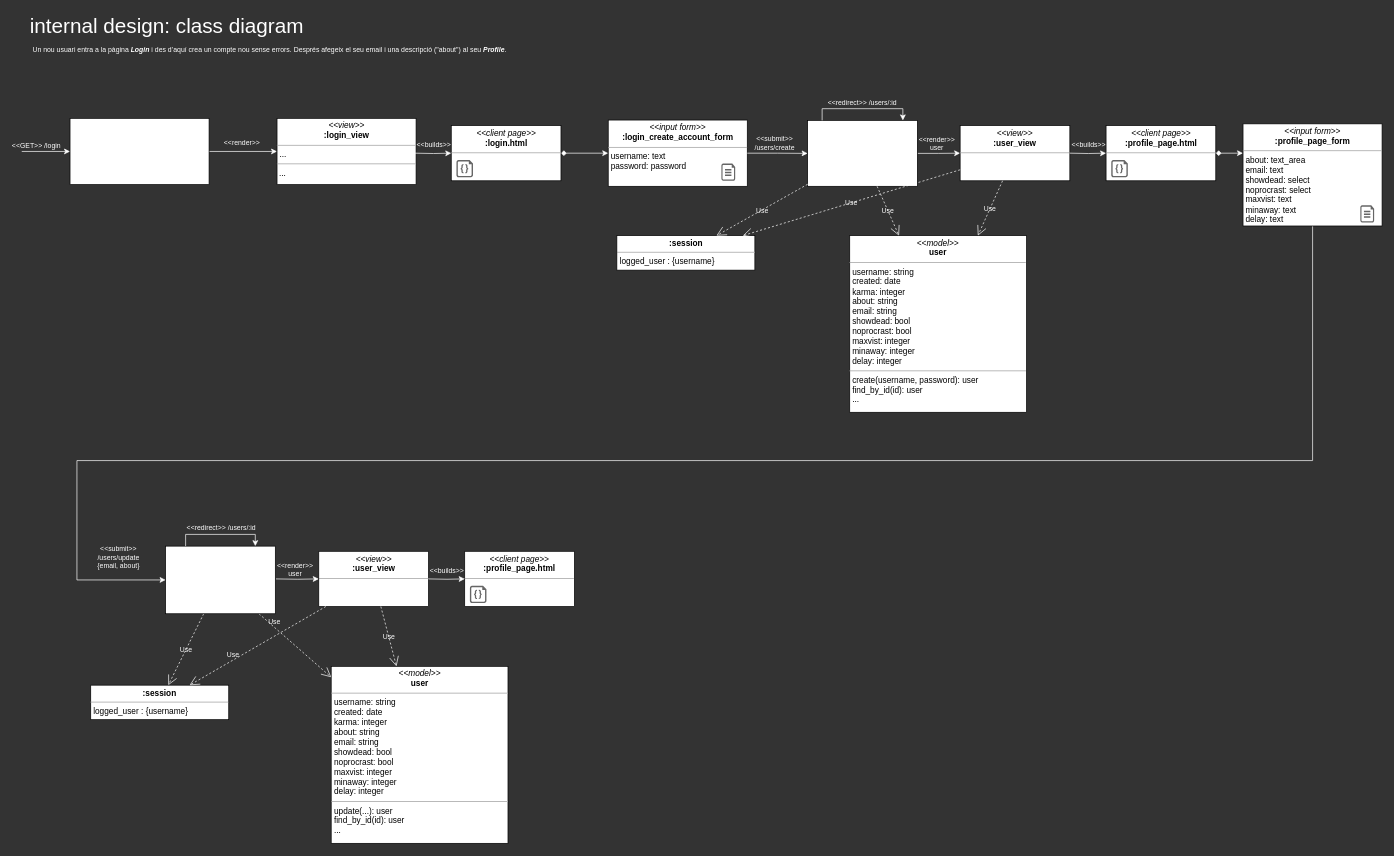
The diagram is 1394 pixels wide and 856 high, and some of its shapes have lost their labels. Here are the shapes that lost their labels. From the top down, the centre of each, then its label:
pixel 139 151: <<controller>> :login_controller ... index( )
pixel 862 153: <<controller>> :user_controller create( ) show_user( ) ...
pixel 220 579: <<controller>> :user_controller update( ) show_user( ) ...
